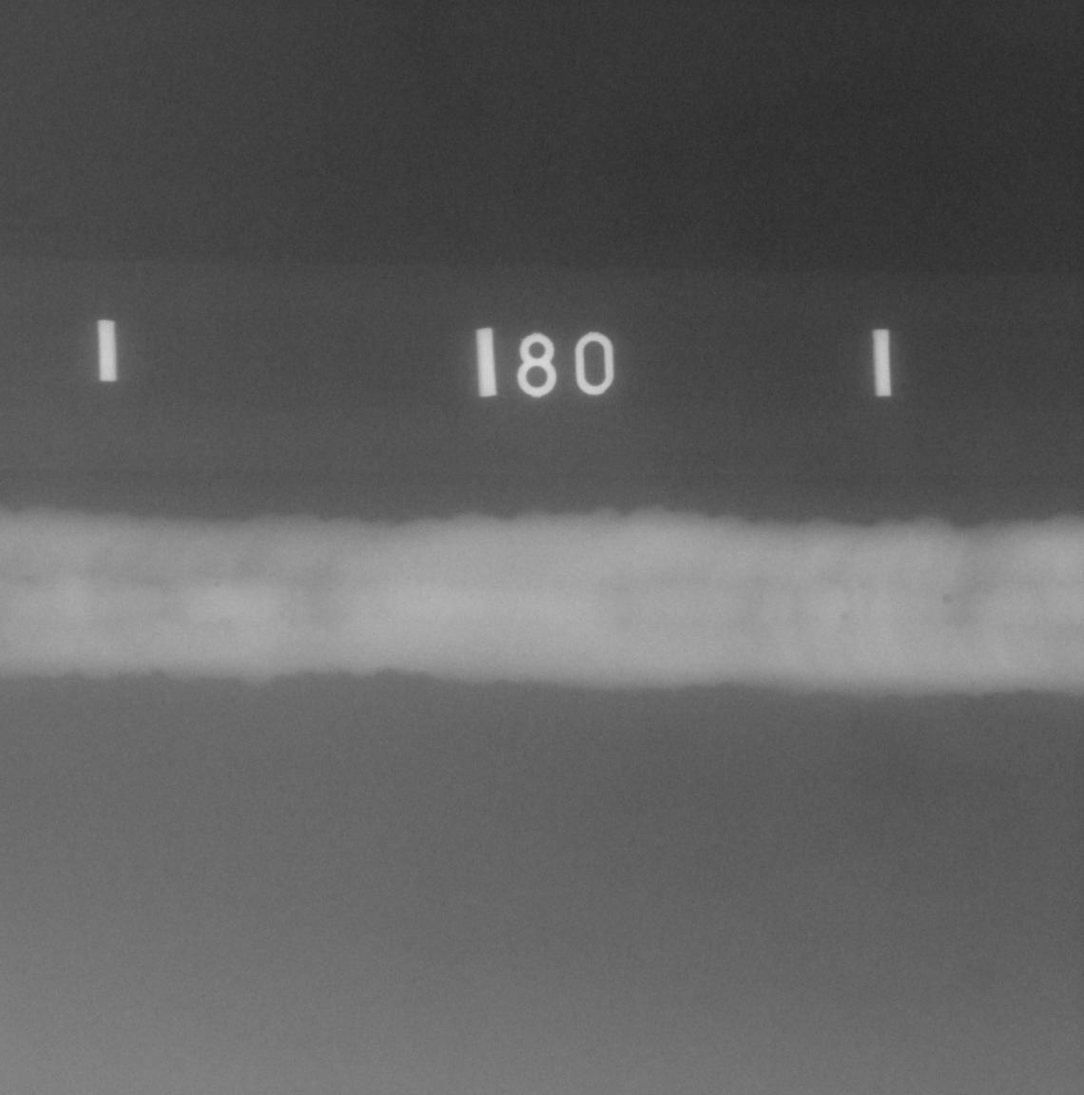Inclusion: (27, 576, 38, 585)
Pore/Porosity: (943, 595, 952, 603), (841, 614, 847, 620), (326, 588, 332, 593), (215, 583, 220, 586)
